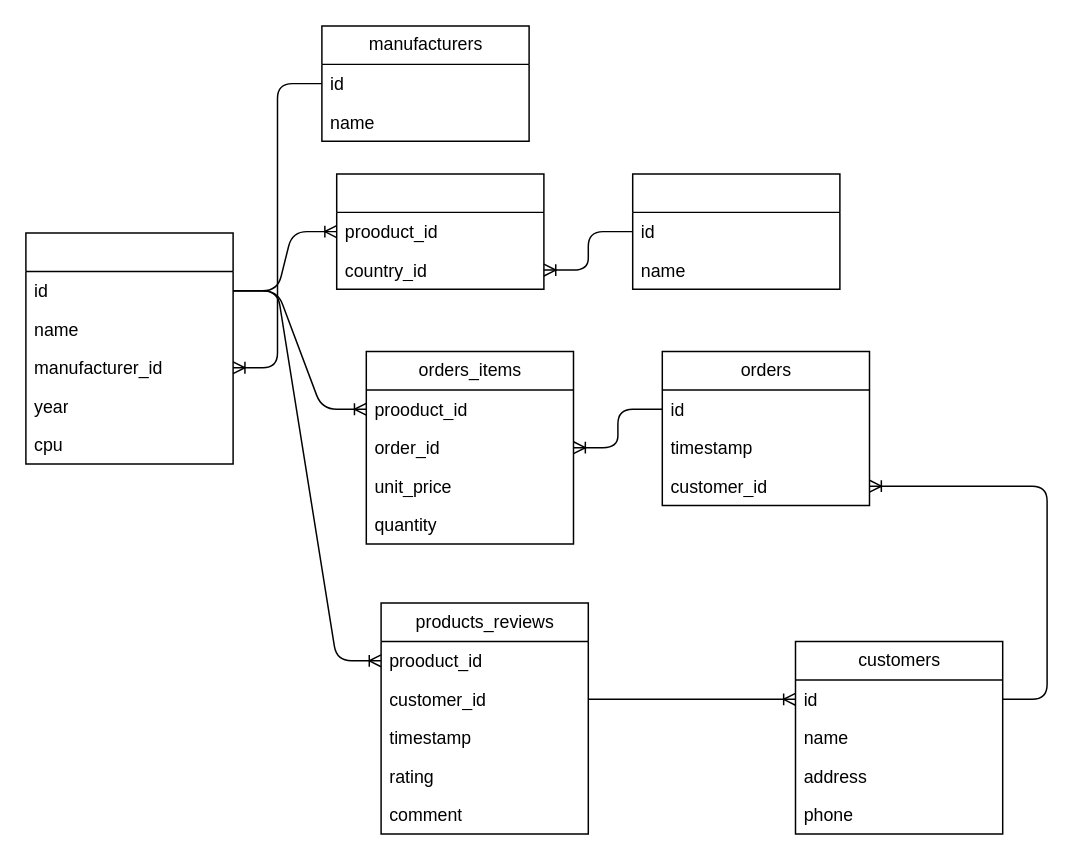
Some shapes in this 1085 by 864 pixel diagram are drawn without their labels. Each missing label, with the box of its shape:
countries: (631, 172, 840, 289)
products: (24, 232, 233, 464)
products_countries: (335, 172, 544, 289)
